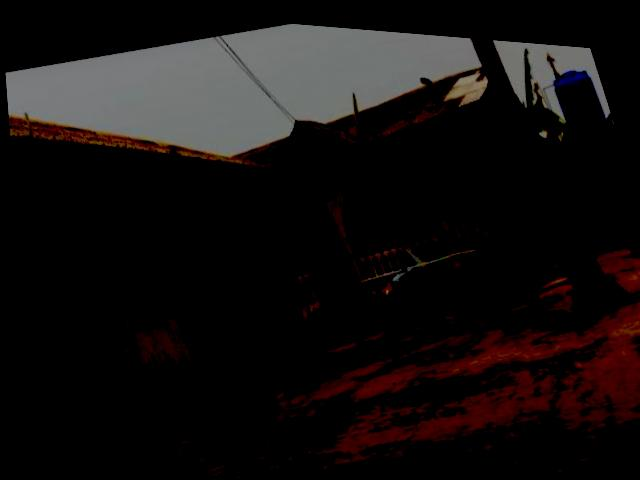iha: (340, 212, 497, 320)
